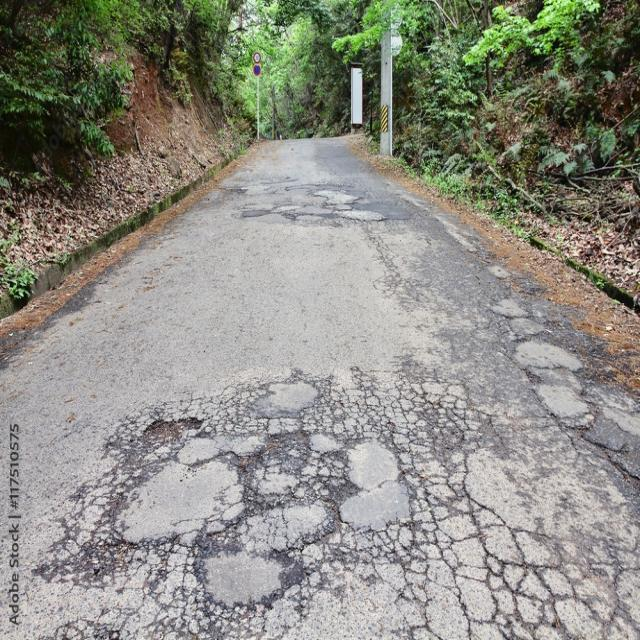Drain Hole: (97, 371, 629, 640)
